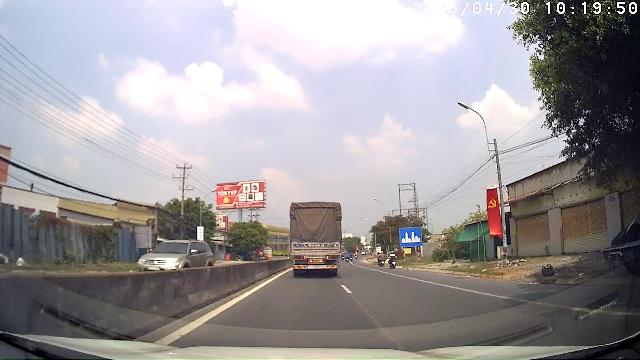420-bat-dau-khu-dong-dan-cu: (400, 227, 423, 245)
